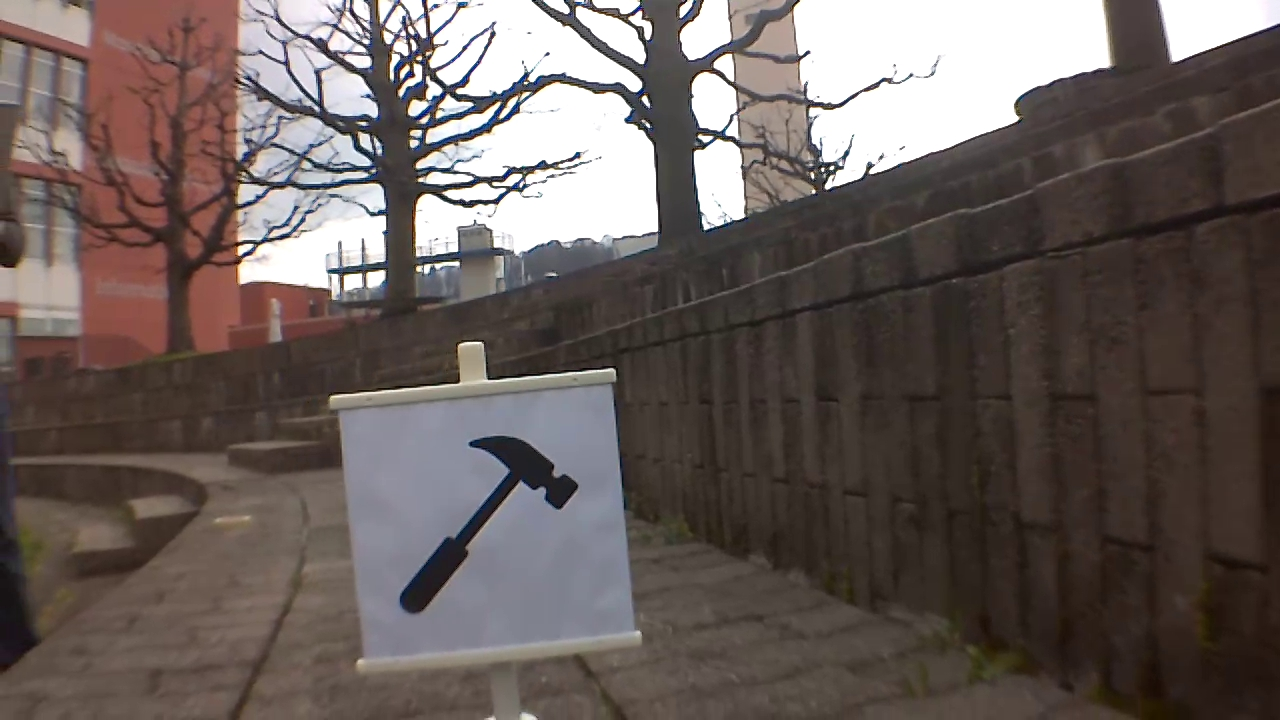hammer: (389, 427, 583, 618)
